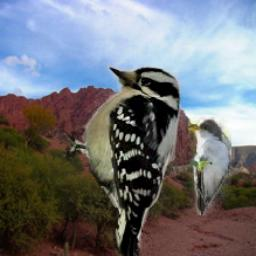Cuckoo: (187, 118, 230, 217)
Woodpecker: (54, 61, 185, 256)
